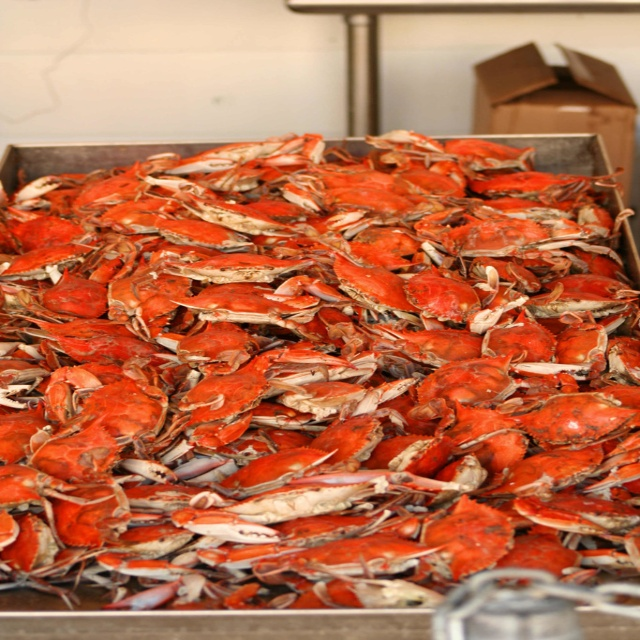Crab: (0, 130, 640, 640)
